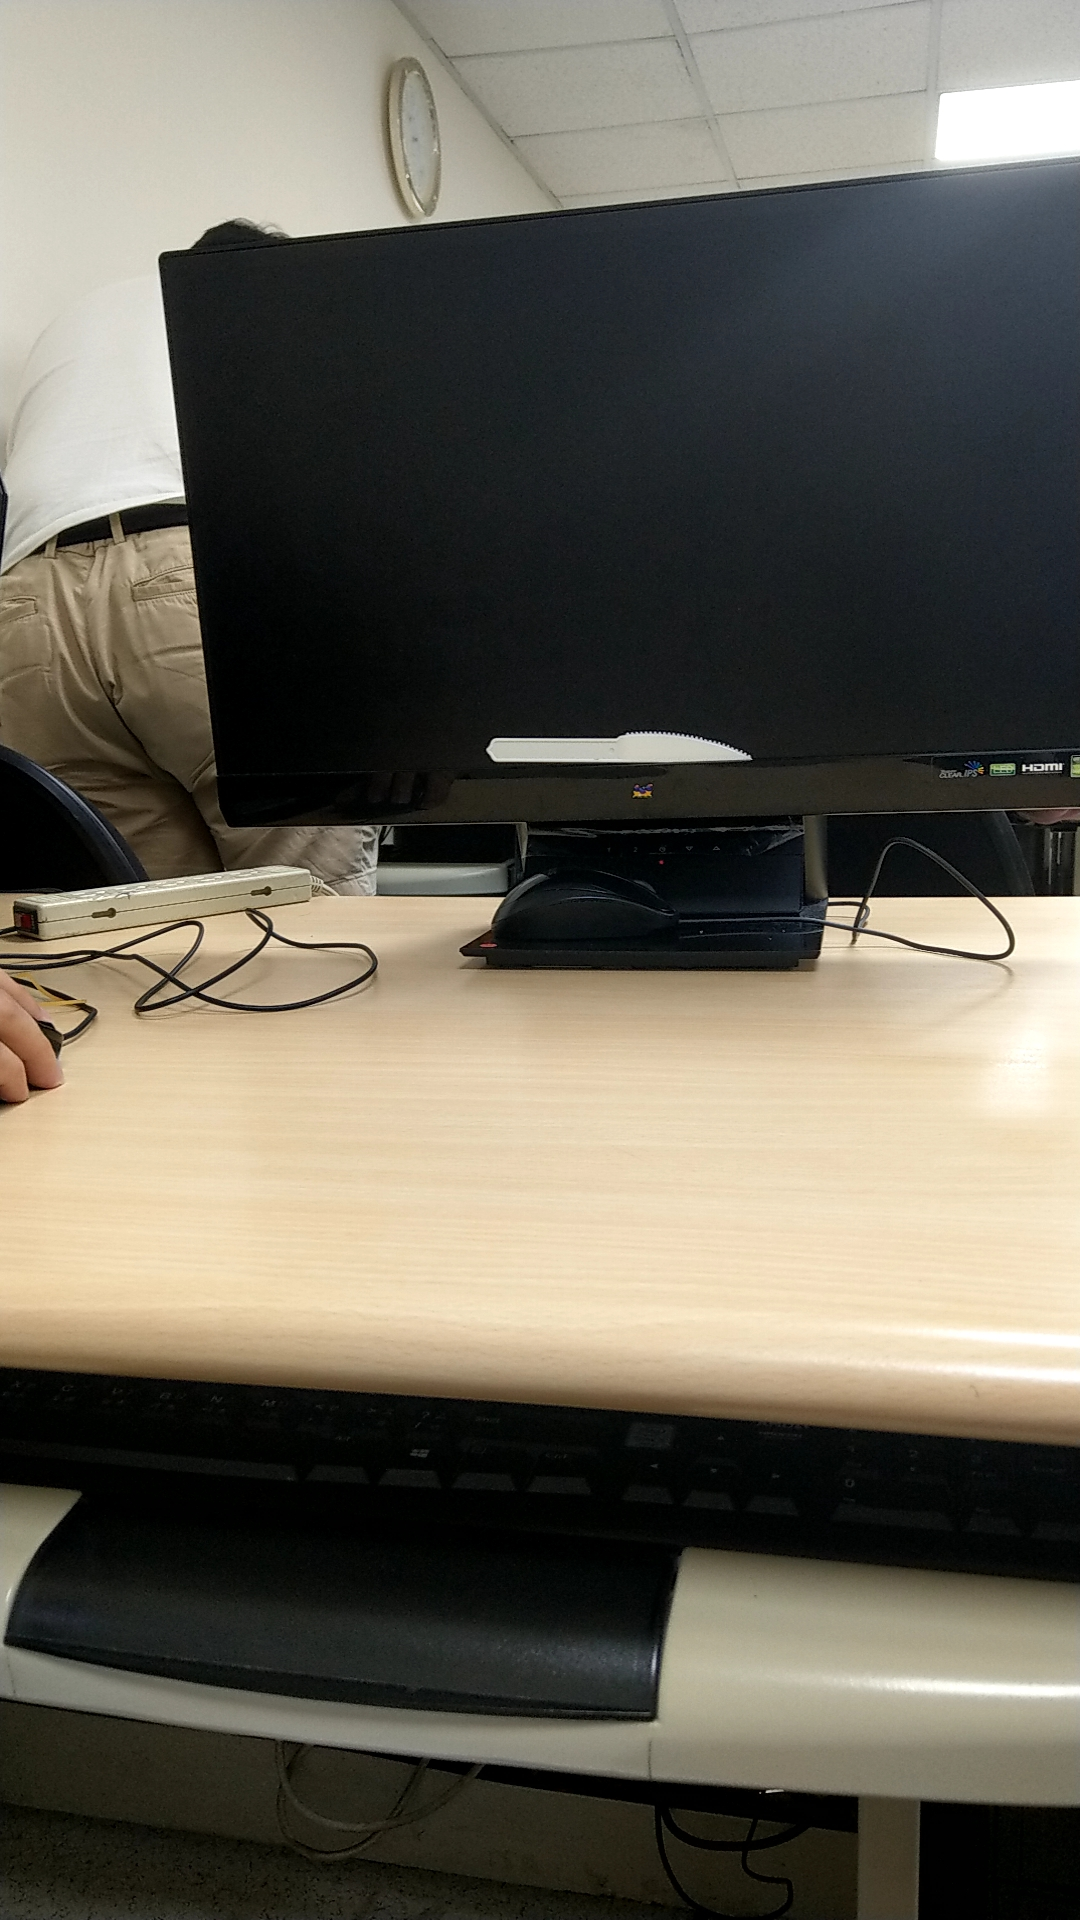knife: (469, 707, 766, 782)
